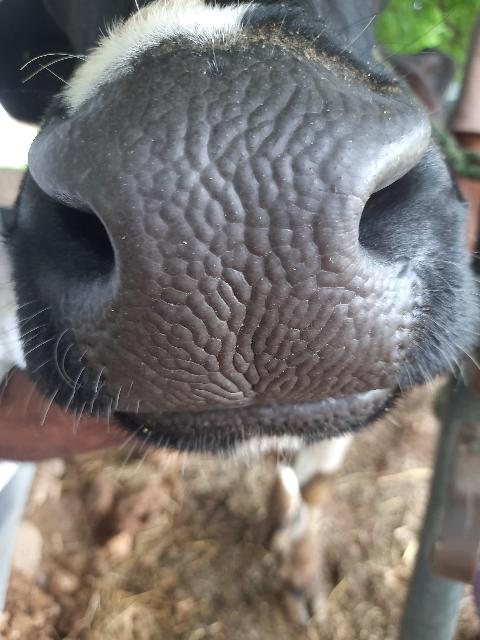Muzzle: (54, 93, 432, 400)
